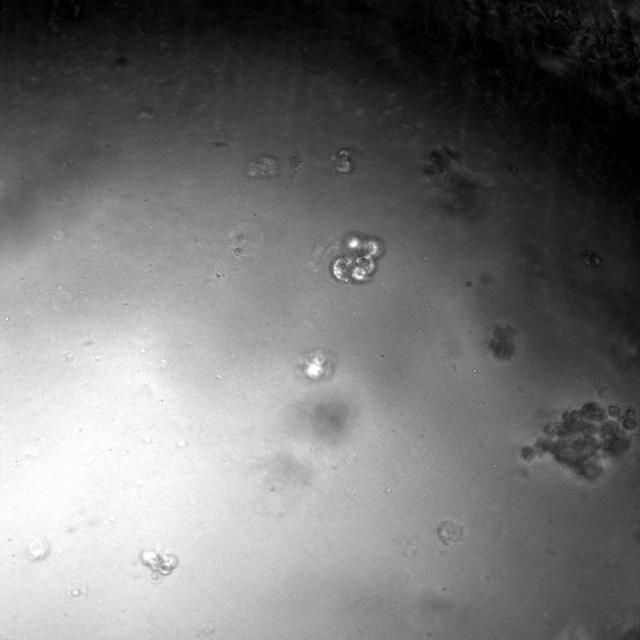organoid: (521, 401, 638, 480), (329, 232, 384, 283), (296, 347, 336, 382), (425, 144, 461, 174), (140, 550, 178, 575), (488, 324, 514, 359), (246, 155, 278, 177), (436, 520, 463, 545), (332, 149, 353, 174), (581, 249, 602, 269)
